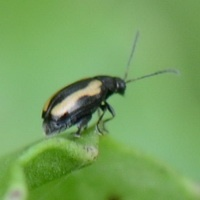insect: (42, 31, 177, 136)
